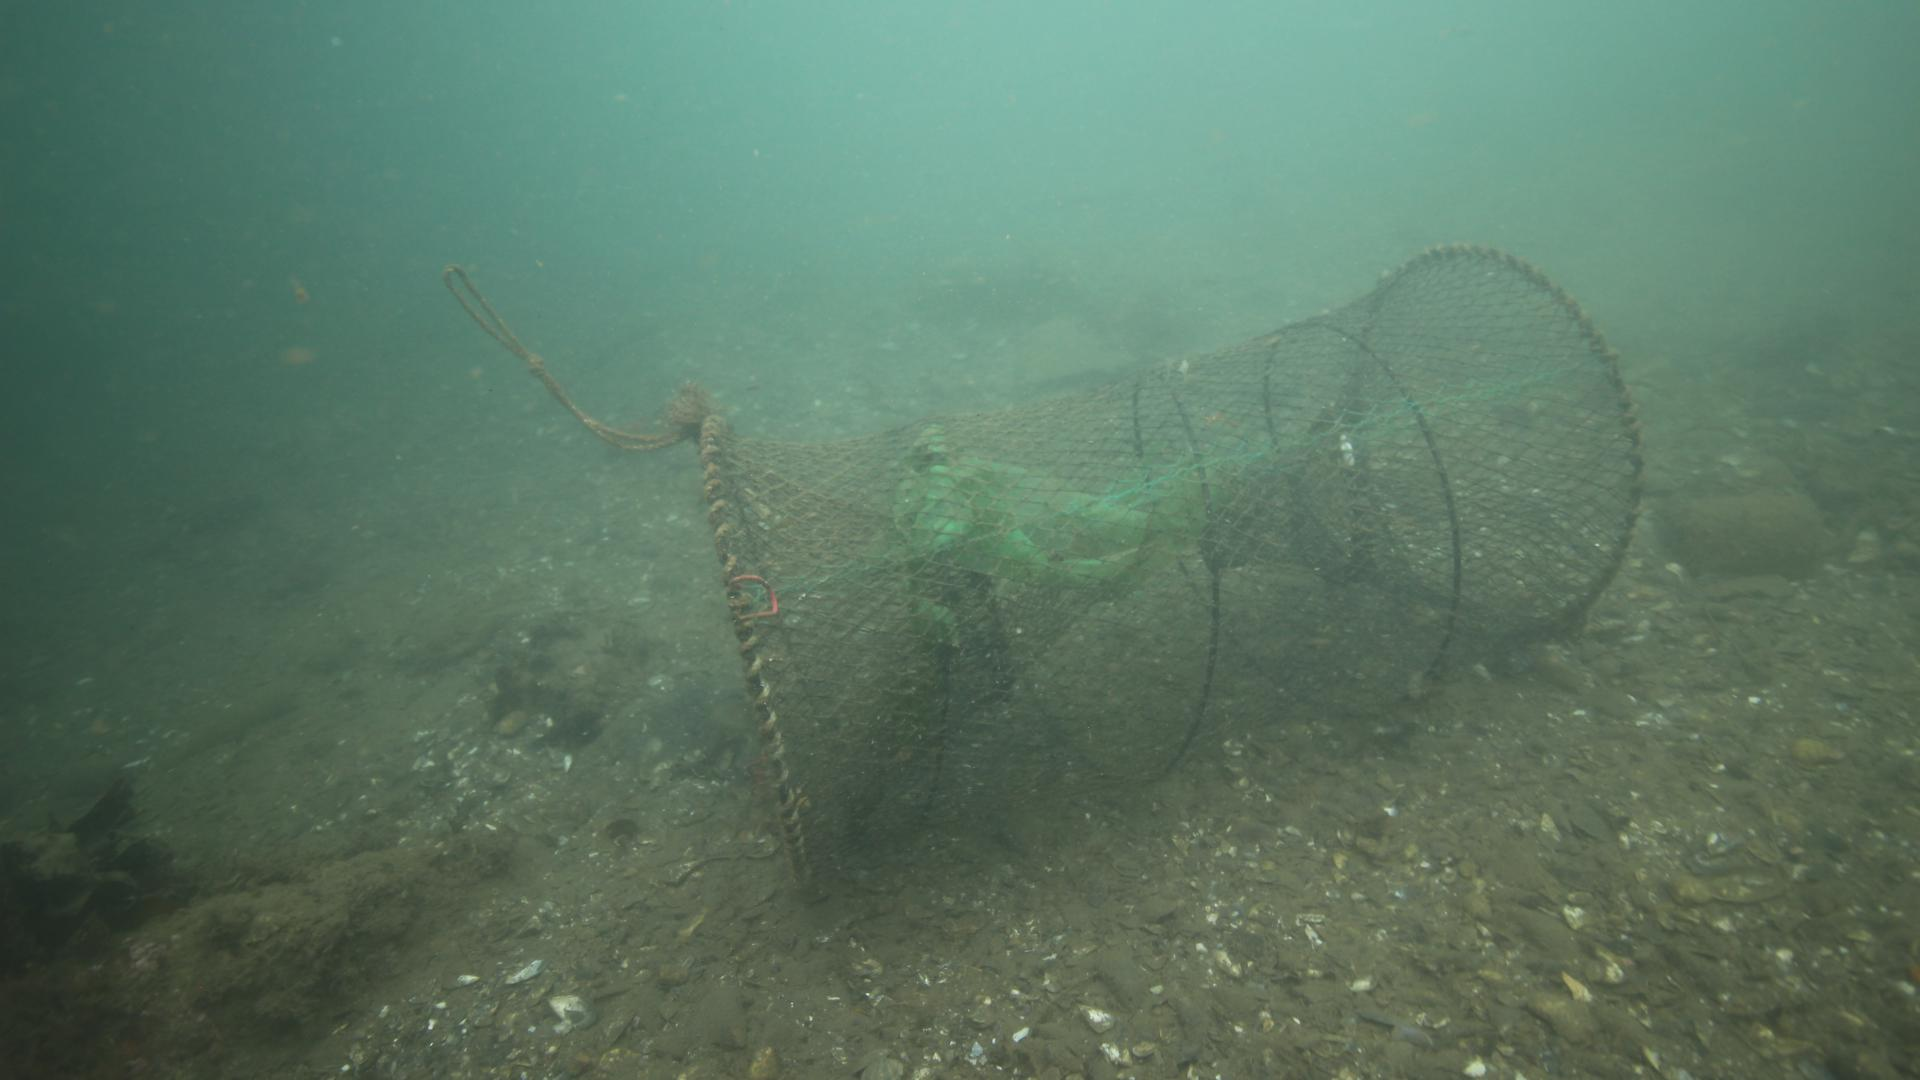bundle of ropes: (438, 258, 724, 456)
spring fish trap: (694, 237, 1644, 891)
